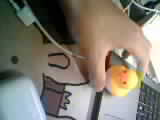duck: (99, 57, 138, 99)
